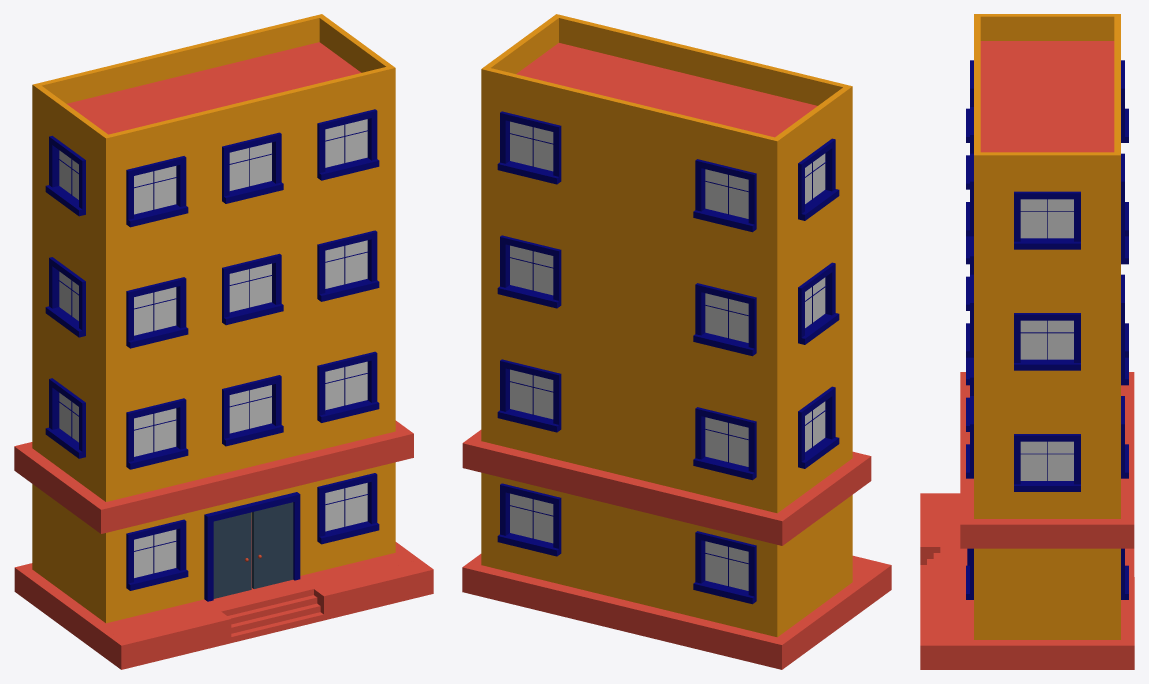
The model's file is build1.fbx.
The picture shows the model from 3 angles, left to right: view 1: azimuth 30°, elevation 25°; view 2: azimuth 150°, elevation 25°; view 3: azimuth 270°, elevation 25°; orthographic projection. The views are drawn at different scales.
Visible parts, largest first — view 1: BUILD_1; view 2: BUILD_1; view 3: BUILD_1.
Part boxes in pixels (x1,y1,x2,y2): BUILD_1: (14, 14, 433, 669); BUILD_1: (462, 14, 891, 669); BUILD_1: (920, 14, 1134, 669).
Bounding box in the file's own units: 10630 × 16535 × 6308.
Materials: 6 (6 with a texture image).
